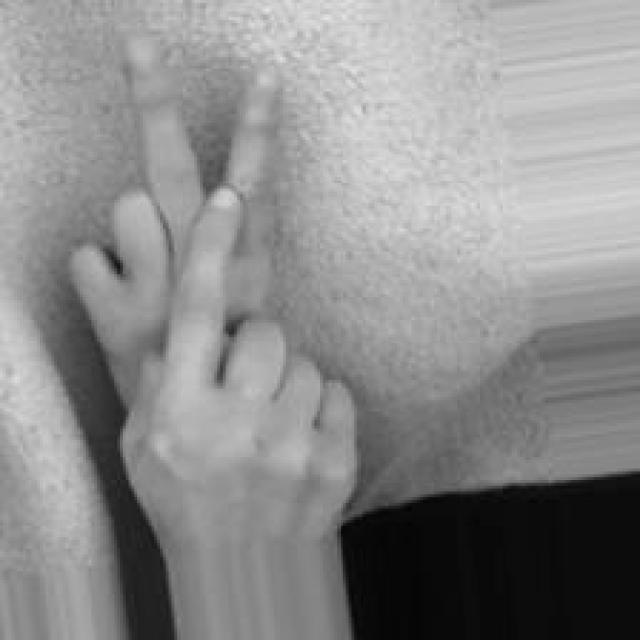Y: (67, 30, 359, 529)
